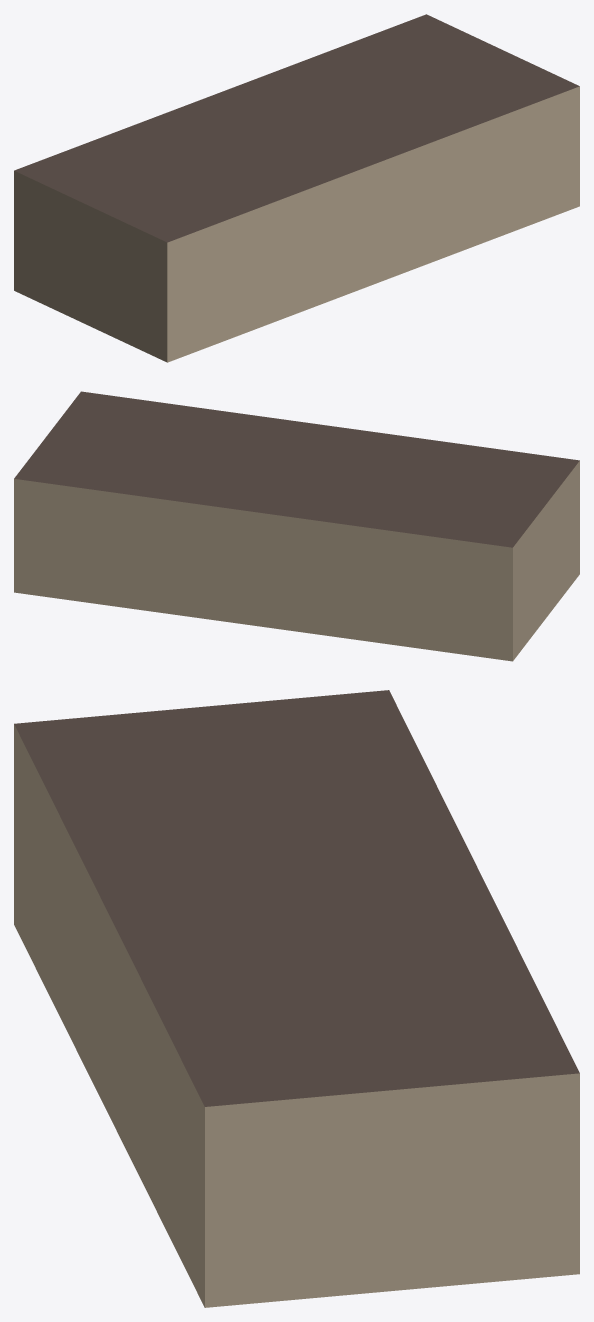
3 views of the same model, one above another, from view 1: azimuth 30°, elevation 25°; view 2: azimuth 150°, elevation 25°; view 3: azimuth 270°, elevation 25° (orthographic). The views are drawn at different scales.
Visible parts, largest first — view 1: HP-w859457460; view 2: HP-w859457460; view 3: HP-w859457460.
Boxes of the visible parts, <box> form: HP-w859457460: <box>14,14,579,362</box>; HP-w859457460: <box>14,391,579,661</box>; HP-w859457460: <box>14,690,579,1307</box>.
Bounding box in the file's own units: 40.07 × 9 × 22.98.
